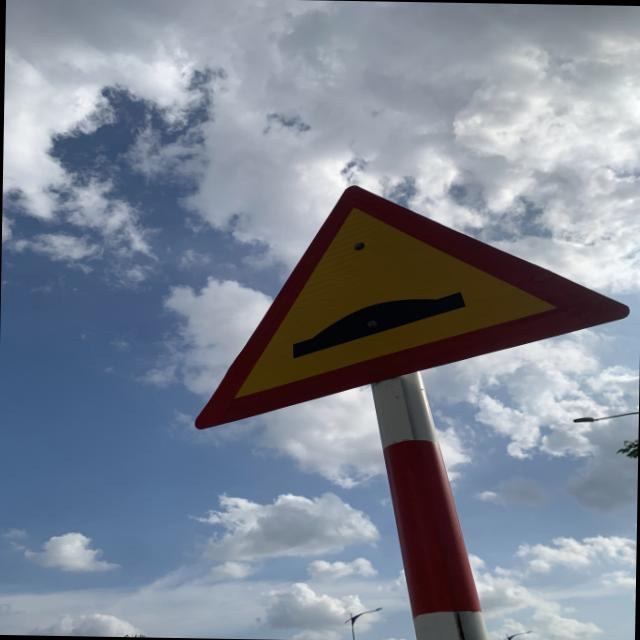Duong_Cong_Ben_Phai: (192, 178, 632, 435)
